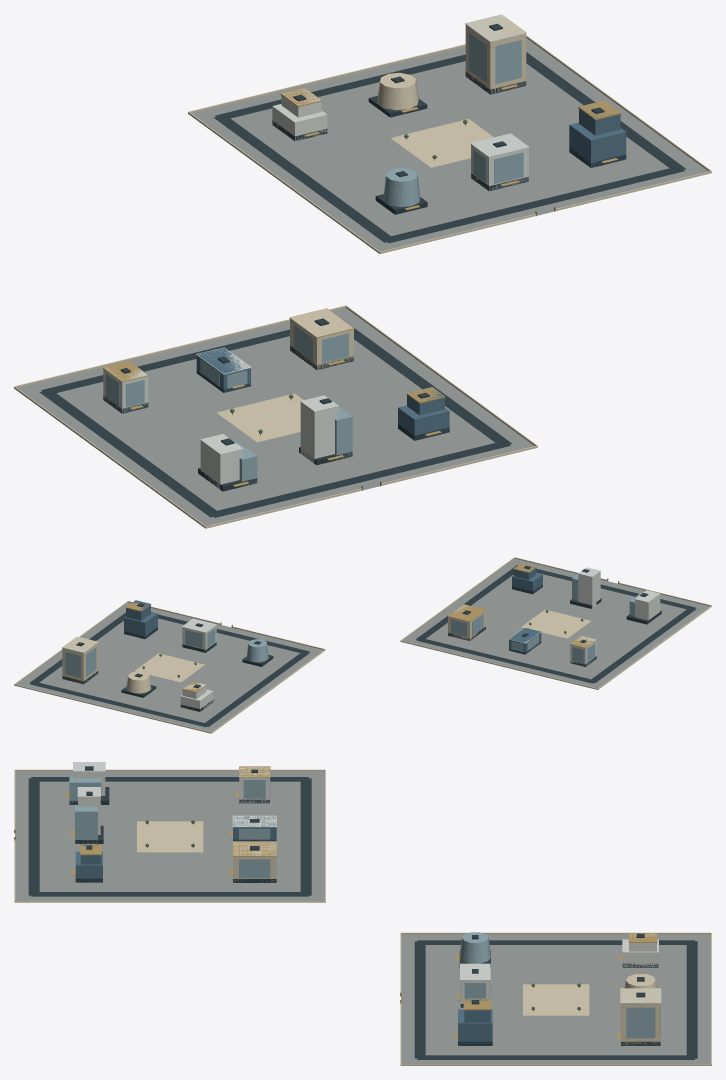
File: GC-TILE-17-18.glb
3 views of the same model, one above another, from view 1: azimuth 30°, elevation 25°; view 2: azimuth 150°, elevation 25°; view 3: azimuth 270°, elevation 25° (orthographic). The views are drawn at different scales.
Visible parts, largest first — view 1: GC-TILE-17-18-paving, GC-TILE-17-18-dark, GC-TILE-17-18-ivory, GC-TILE-17-18-white, GC-TILE-17-18-glass, GC-TILE-17-18-blue, GC-TILE-17-18-gold; view 2: GC-TILE-17-18-paving, GC-TILE-17-18-dark, GC-TILE-17-18-ivory, GC-TILE-17-18-white, GC-TILE-17-18-glass, GC-TILE-17-18-blue, GC-TILE-17-18-gold; view 3: GC-TILE-17-18-paving, GC-TILE-17-18-dark, GC-TILE-17-18-ivory, GC-TILE-17-18-glass, GC-TILE-17-18-white, GC-TILE-17-18-blue, GC-TILE-17-18-gold.
Boxes of the visible parts, bbox=[...] form: GC-TILE-17-18-paving: bbox=[17, 38, 708, 526]; GC-TILE-17-18-dark: bbox=[40, 23, 686, 517]; GC-TILE-17-18-ivory: bbox=[14, 15, 711, 528]; GC-TILE-17-18-white: bbox=[103, 14, 529, 489]; GC-TILE-17-18-glass: bbox=[106, 32, 523, 486]; GC-TILE-17-18-blue: bbox=[196, 107, 626, 440]; GC-TILE-17-18-gold: bbox=[103, 84, 621, 490]; GC-TILE-17-18-paving: bbox=[16, 558, 709, 732]; GC-TILE-17-18-dark: bbox=[29, 565, 696, 727]; GC-TILE-17-18-ivory: bbox=[14, 557, 711, 733]; GC-TILE-17-18-white: bbox=[62, 567, 660, 711]; GC-TILE-17-18-glass: bbox=[65, 574, 642, 677]; GC-TILE-17-18-blue: bbox=[124, 565, 542, 653]; GC-TILE-17-18-gold: bbox=[125, 563, 619, 692]; GC-TILE-17-18-paving: bbox=[15, 771, 710, 1063]; GC-TILE-17-18-dark: bbox=[28, 766, 697, 1059]; GC-TILE-17-18-ivory: bbox=[14, 769, 711, 1065]; GC-TILE-17-18-glass: bbox=[69, 776, 660, 1038]; GC-TILE-17-18-white: bbox=[73, 762, 661, 1007]; GC-TILE-17-18-blue: bbox=[75, 816, 492, 1045]; GC-TILE-17-18-gold: bbox=[14, 766, 657, 1038].
Bounding box in the file's own units: 759 × 53.43 × 760.
